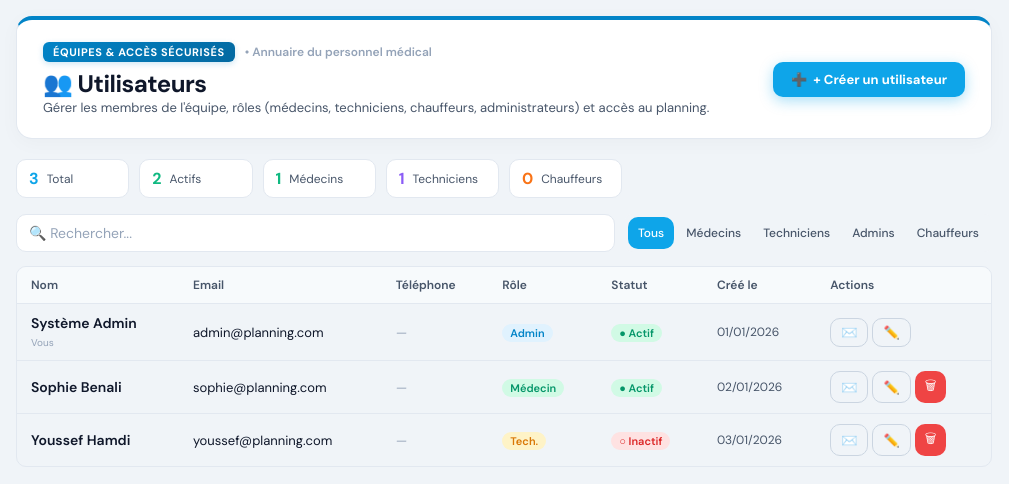
Test: Users page › filters by search text
The image size is (1009, 484).
In the field with placeholder "🔍 Rechercher...": (316, 233) [16,214,615,252], type "Sophie"
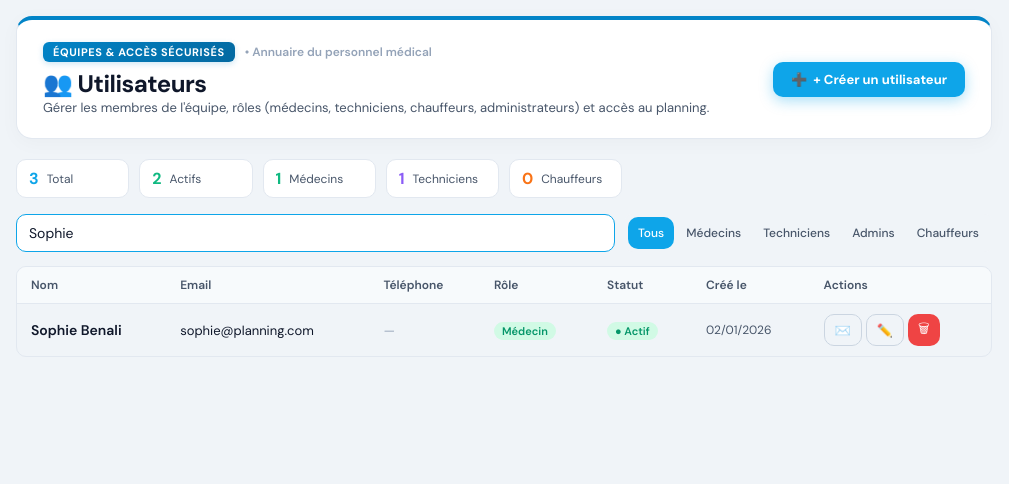
Expected: the text "Sophie" is shown, [31,321,77,339]
Now the text "Youssef" is gone
